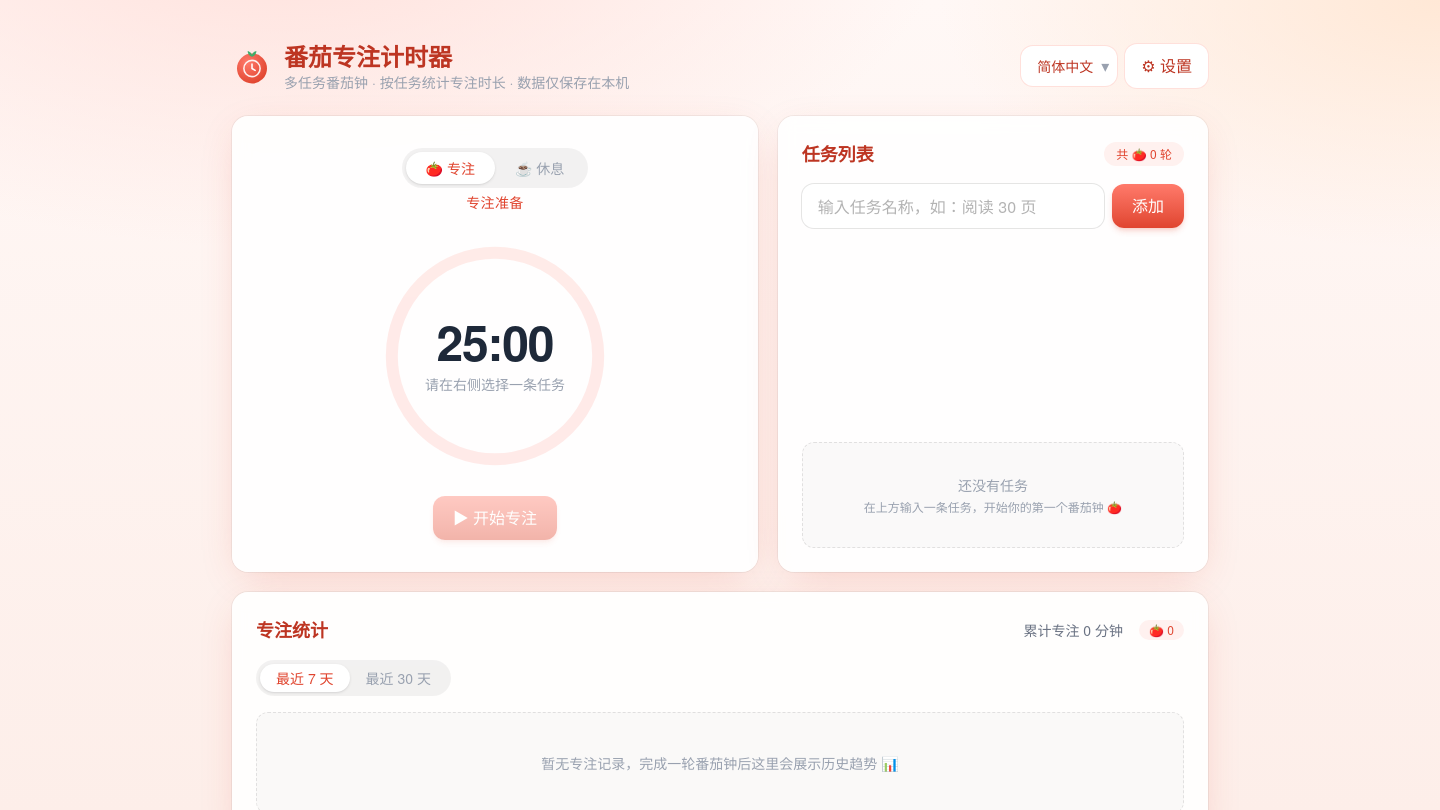
Test case: App 集成流程 › 完整闭环：添加任务 → 选中 → 开始专注 → 重置作废不计统计
Type "复习英语" into the field named "新任务名称" at x=953, y=206, box [802,184,1104,228]
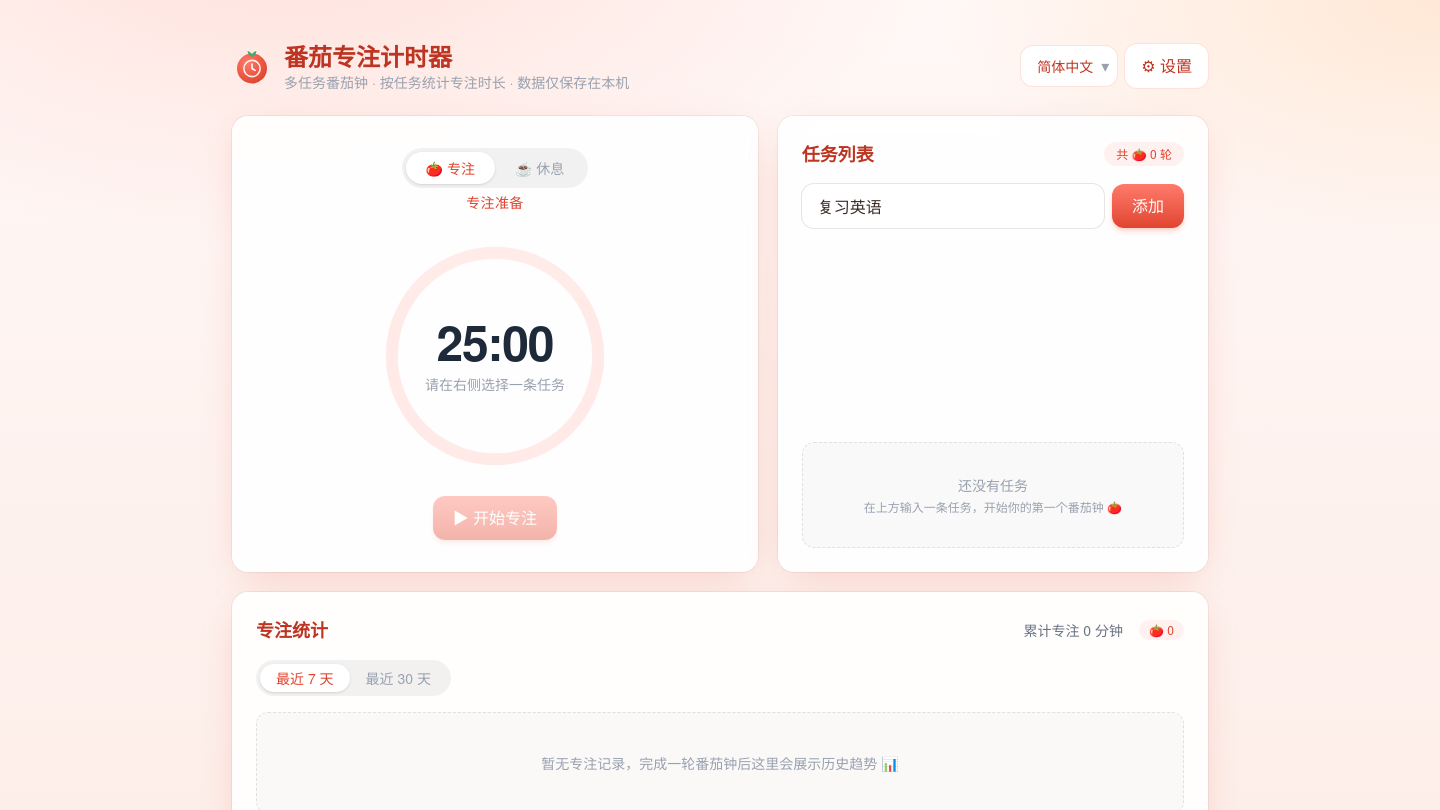
Submit the form, box [802,184,1184,228]
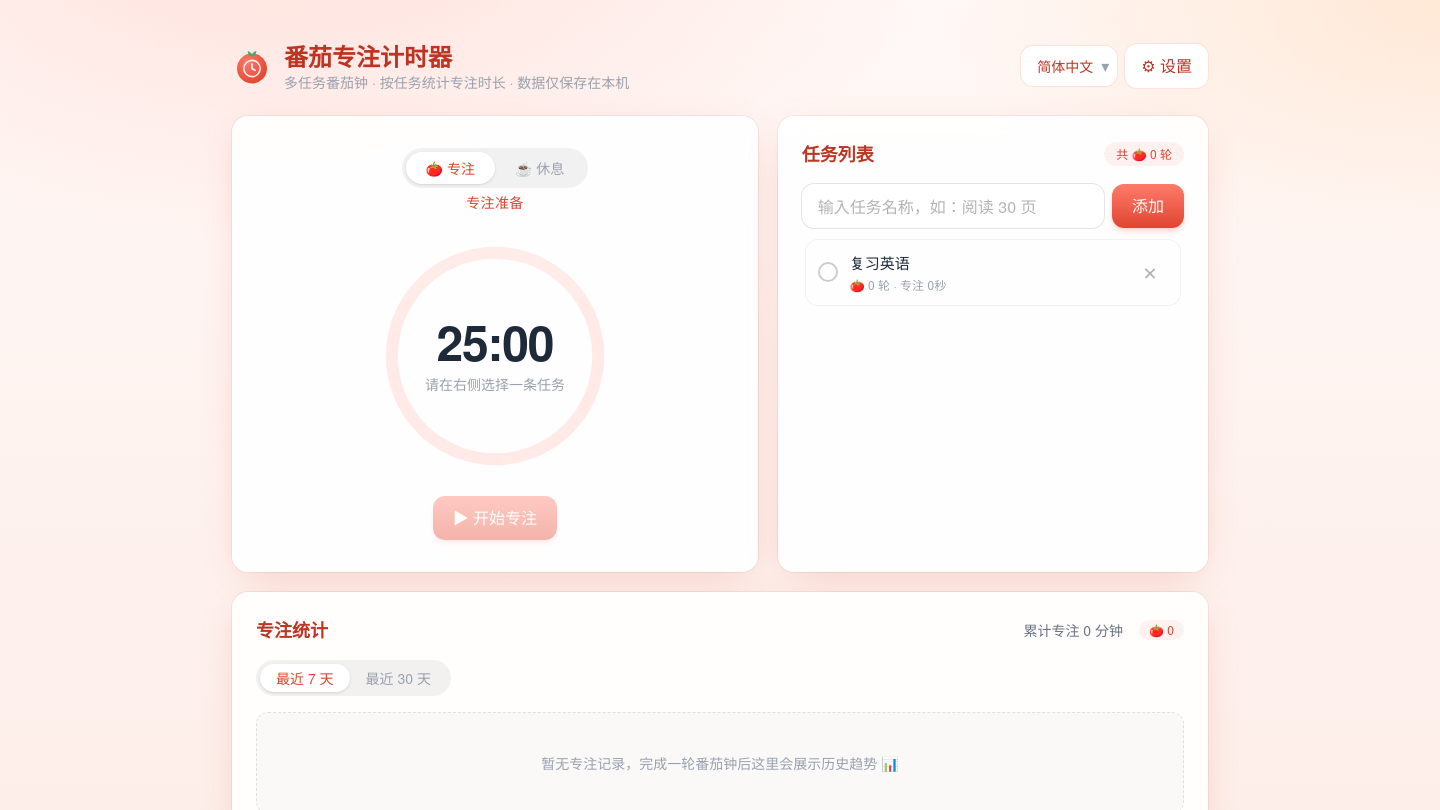
Click the button "复习英语 🍅 0 轮 · 专注 0秒 ✕" at x=880, y=262, box [806,240,1180,304]
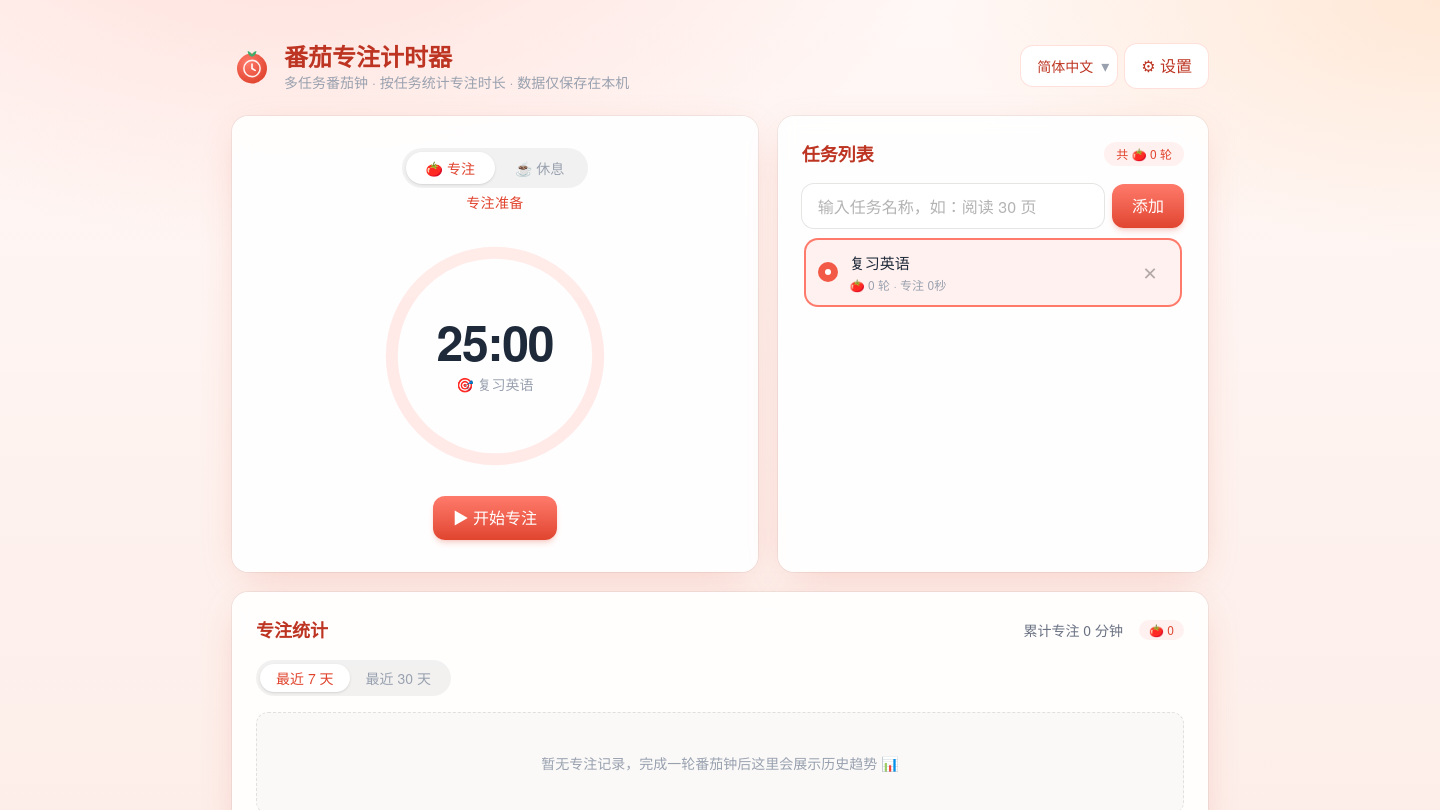
Expected: the button "▶ 开始专注" is enabled
Click the button "▶ 开始专注" at x=495, y=518, box [433,496,557,540]
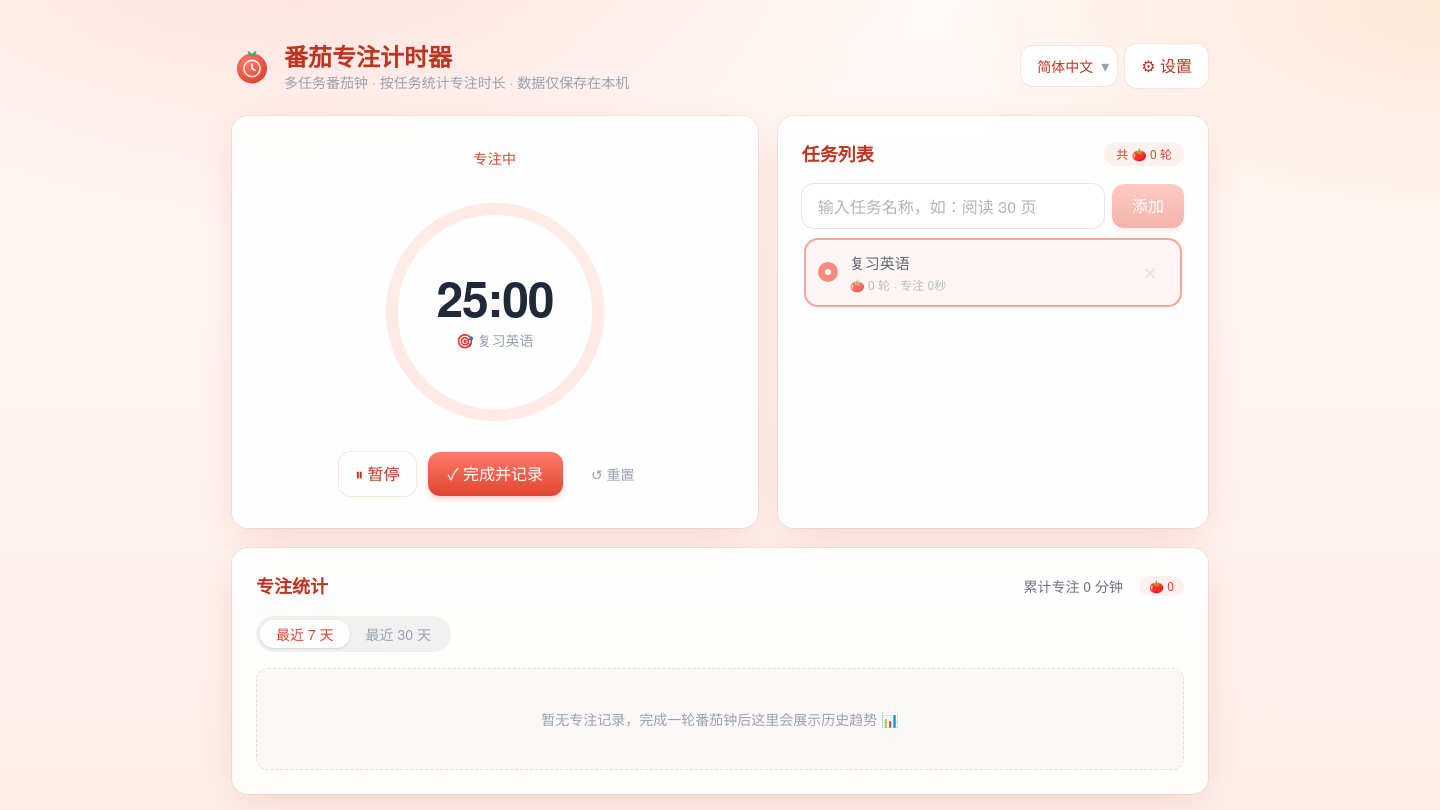
Expected: the text "专注中" is shown, [473,148,516,168]
Expected: the button "⏸ 暂停" is shown, [339,452,416,496]
Expected: the button "↺ 重置" is shown
Click the button "↺ 重置" at x=613, y=474, box [575,454,651,494]
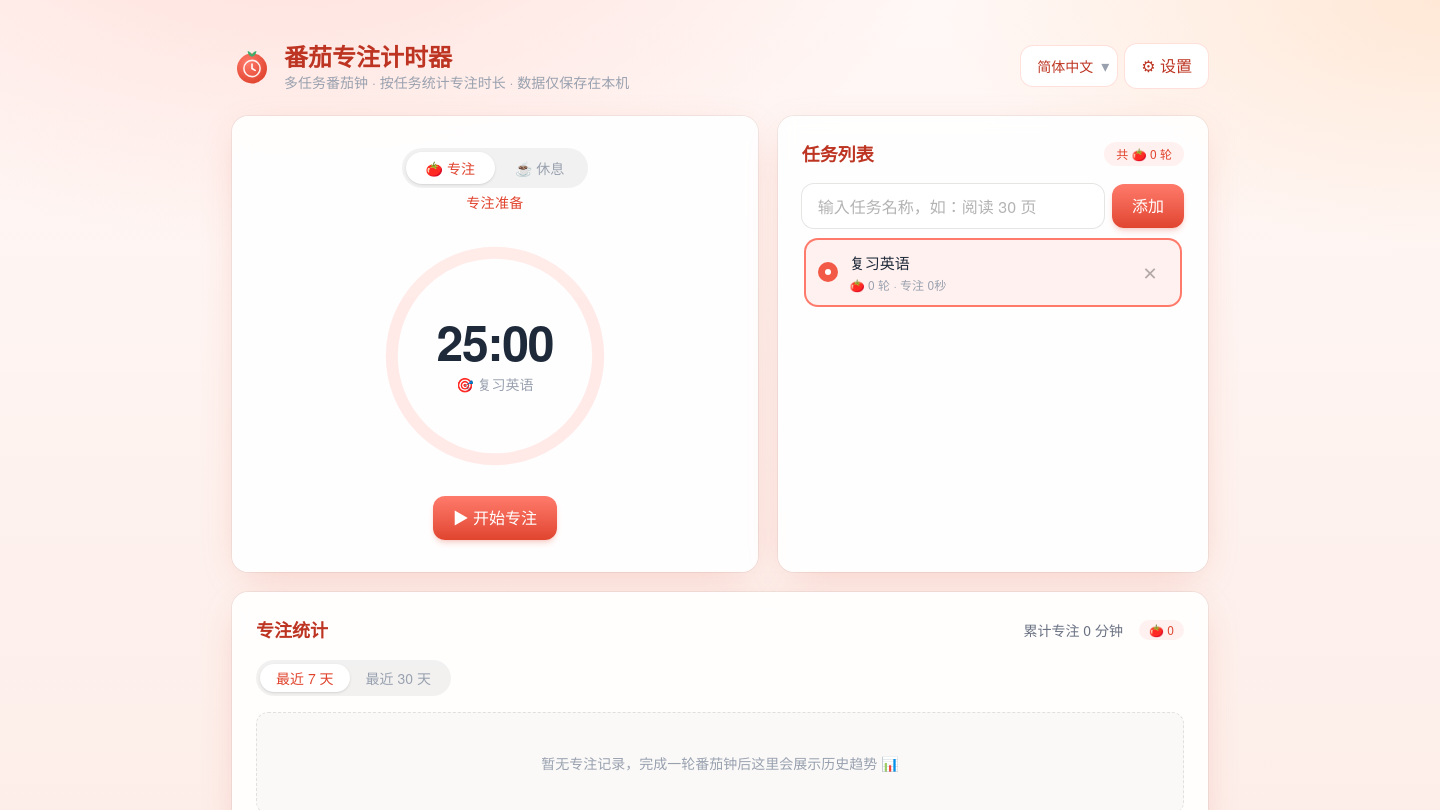
Expected: the text "共 🍅 0 轮" is shown, [1104,142,1184,166]
Expected: the text "复习英语" is shown, [456,374,534,394]
Expected: the text "专注准备" is shown, [466,192,524,212]
